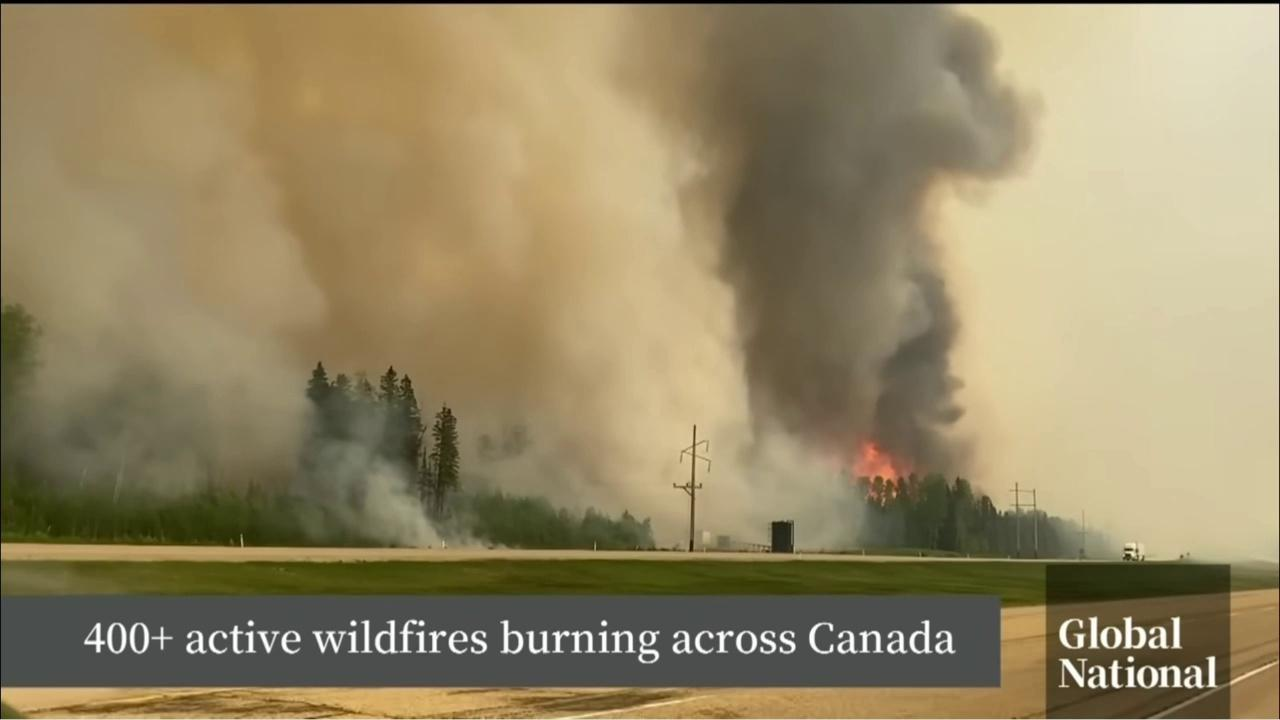fire: (837, 436, 906, 508)
smoke: (1, 4, 1052, 556)
